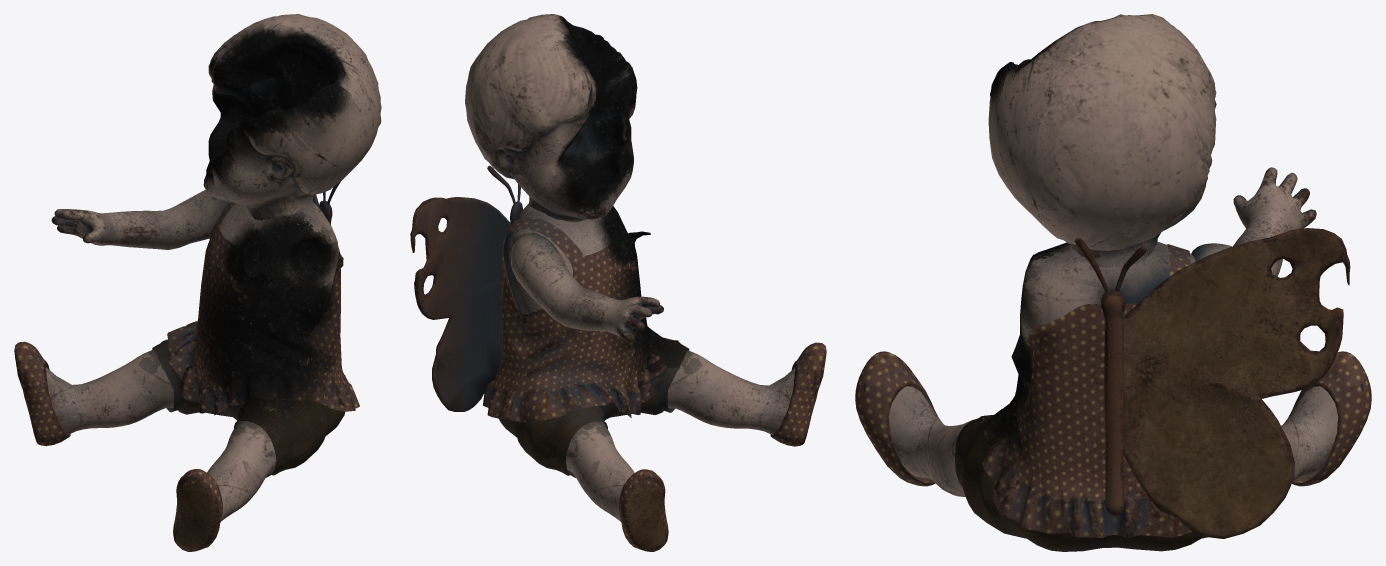
The model's file is SM_BurnedDoll_2.fbx.
3 renders of one model, left to right at view 1: azimuth 30°, elevation 25°; view 2: azimuth 150°, elevation 25°; view 3: azimuth 270°, elevation 25°, orthographic. The views are drawn at different scales.
Parts seen in each view (by area): view 1: SM_BurnedDoll_2; view 2: SM_BurnedDoll_2; view 3: SM_BurnedDoll_2.
Part boxes in pixels (left/top/right/bottom): SM_BurnedDoll_2: left=14, top=14, right=381, bottom=551; SM_BurnedDoll_2: left=410, top=14, right=826, bottom=551; SM_BurnedDoll_2: left=855, top=14, right=1371, bottom=551.
Size of the model in its own units: 14.88 by 18.69 by 22.88.
1 material, 1 textured.
